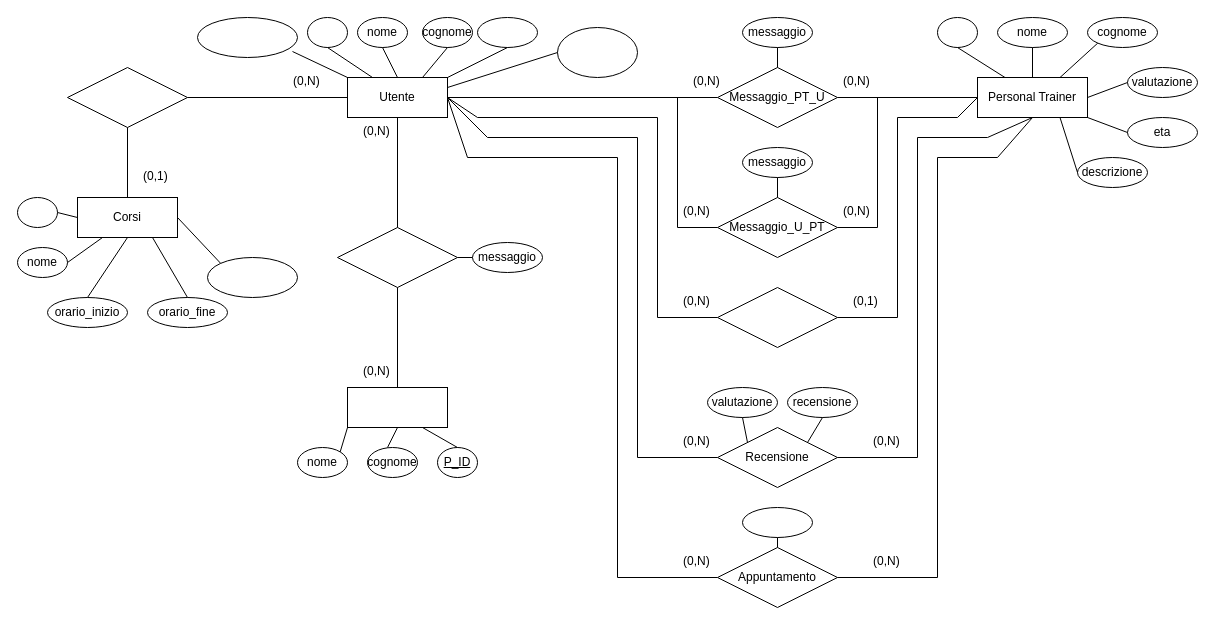
This 1215x625 diagram has some shape labels left out. Here are the shapes that lost their labels. From the top down, the centre of each, then its label:
At point 247,37: "scadenza abbonamento".
At point 327,32: "U_ID".
At point 507,32: "tipologia".
At point 597,52: "metodo di pagamento".
At point 957,32: "PT_ID".
At point 127,97: "Partecipazione".
At point 37,212: "C_ID".
At point 252,277: "n_partecipanti".
At point 397,257: "Messaggio_P-U".
At point 777,317: "Affiliazione".
At point 397,407: "Personale".
At point 777,522: "orario".
